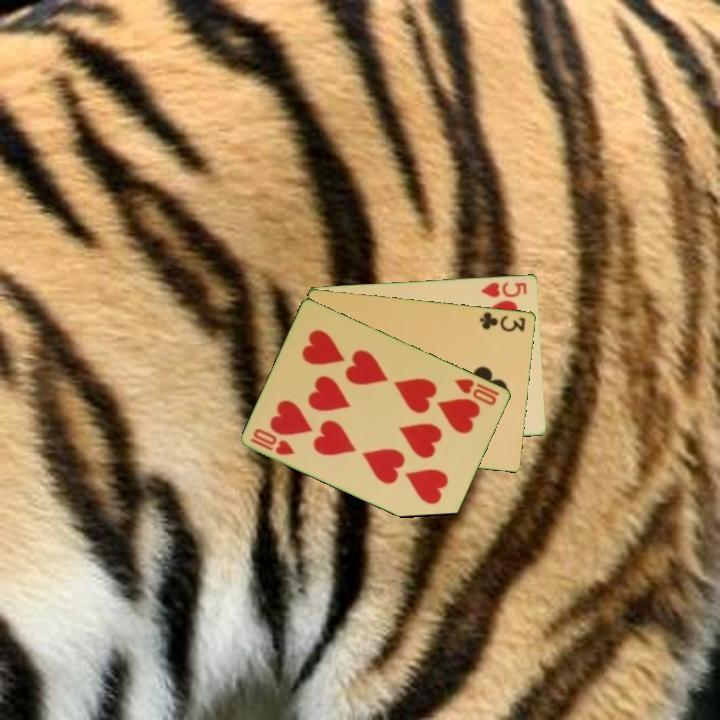10h: (247, 424, 298, 458), (452, 375, 502, 408)
3c: (476, 308, 528, 335)
5h: (478, 278, 530, 300)
